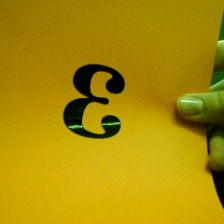orange3: (59, 58, 128, 143)
